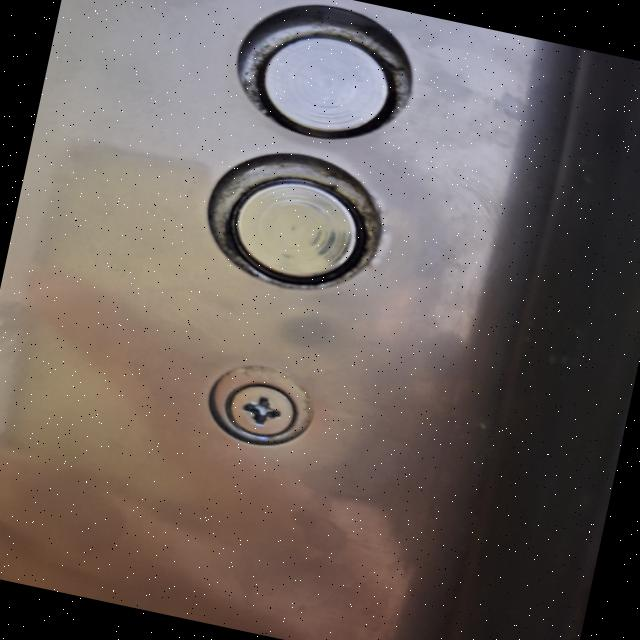Phillips: (219, 376, 310, 449)
